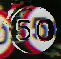Speed limit: (5, 3, 59, 57)
